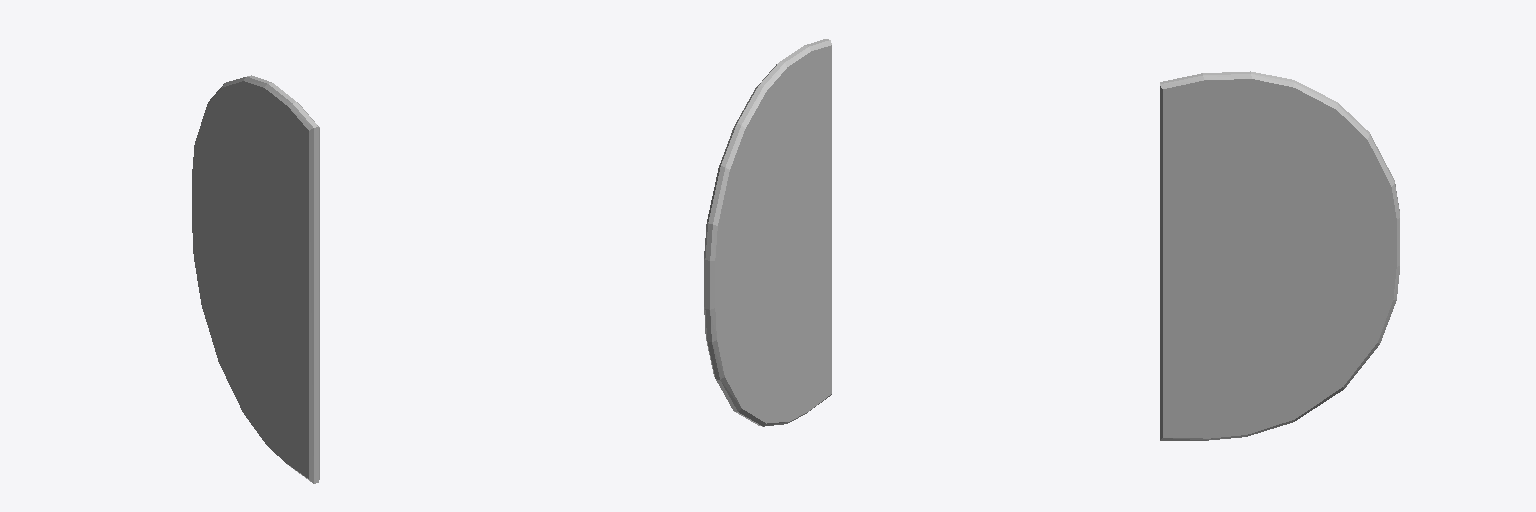
File: MainTimoneTest.obj
The picture shows the model from 3 angles: view 1: azimuth 30°, elevation 25°; view 2: azimuth 150°, elevation 25°; view 3: azimuth 270°, elevation 25°; orthographic projection.
Visible parts, largest first — view 1: Spowith_f1_camel_leme; view 2: Spowith_f1_camel_leme; view 3: Spowith_f1_camel_leme.
Part boxes in pixels (x1,y1,x2,y2): Spowith_f1_camel_leme: (192, 75, 319, 483); Spowith_f1_camel_leme: (704, 39, 831, 426); Spowith_f1_camel_leme: (1160, 71, 1399, 440).
Size of the model in its own units: 2.42 by 74.9 by 44.6.